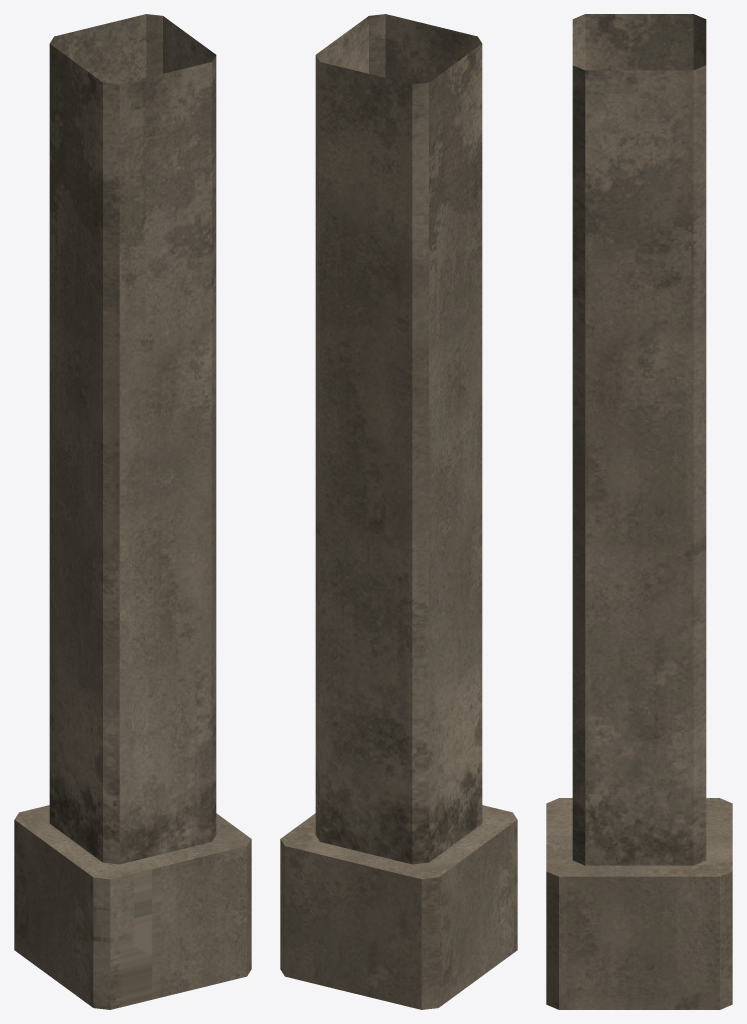
The model's file is SM_Bunker_Pillar.glb.
3 views of the same model, side by side, from view 1: azimuth 30°, elevation 25°; view 2: azimuth 150°, elevation 25°; view 3: azimuth 270°, elevation 25° (orthographic).
Parts seen in each view (by area): view 1: SM_BunkerPillar; view 2: SM_BunkerPillar; view 3: SM_BunkerPillar.
Part boxes in pixels (x1,y1,x2,y2): SM_BunkerPillar: (14,14,251,1009); SM_BunkerPillar: (280,14,517,1009); SM_BunkerPillar: (546,14,732,1009).
Size of the model in its own units: 0.4179 by 2.3 by 0.4179.
Materials: 1 (1 with a texture image).
